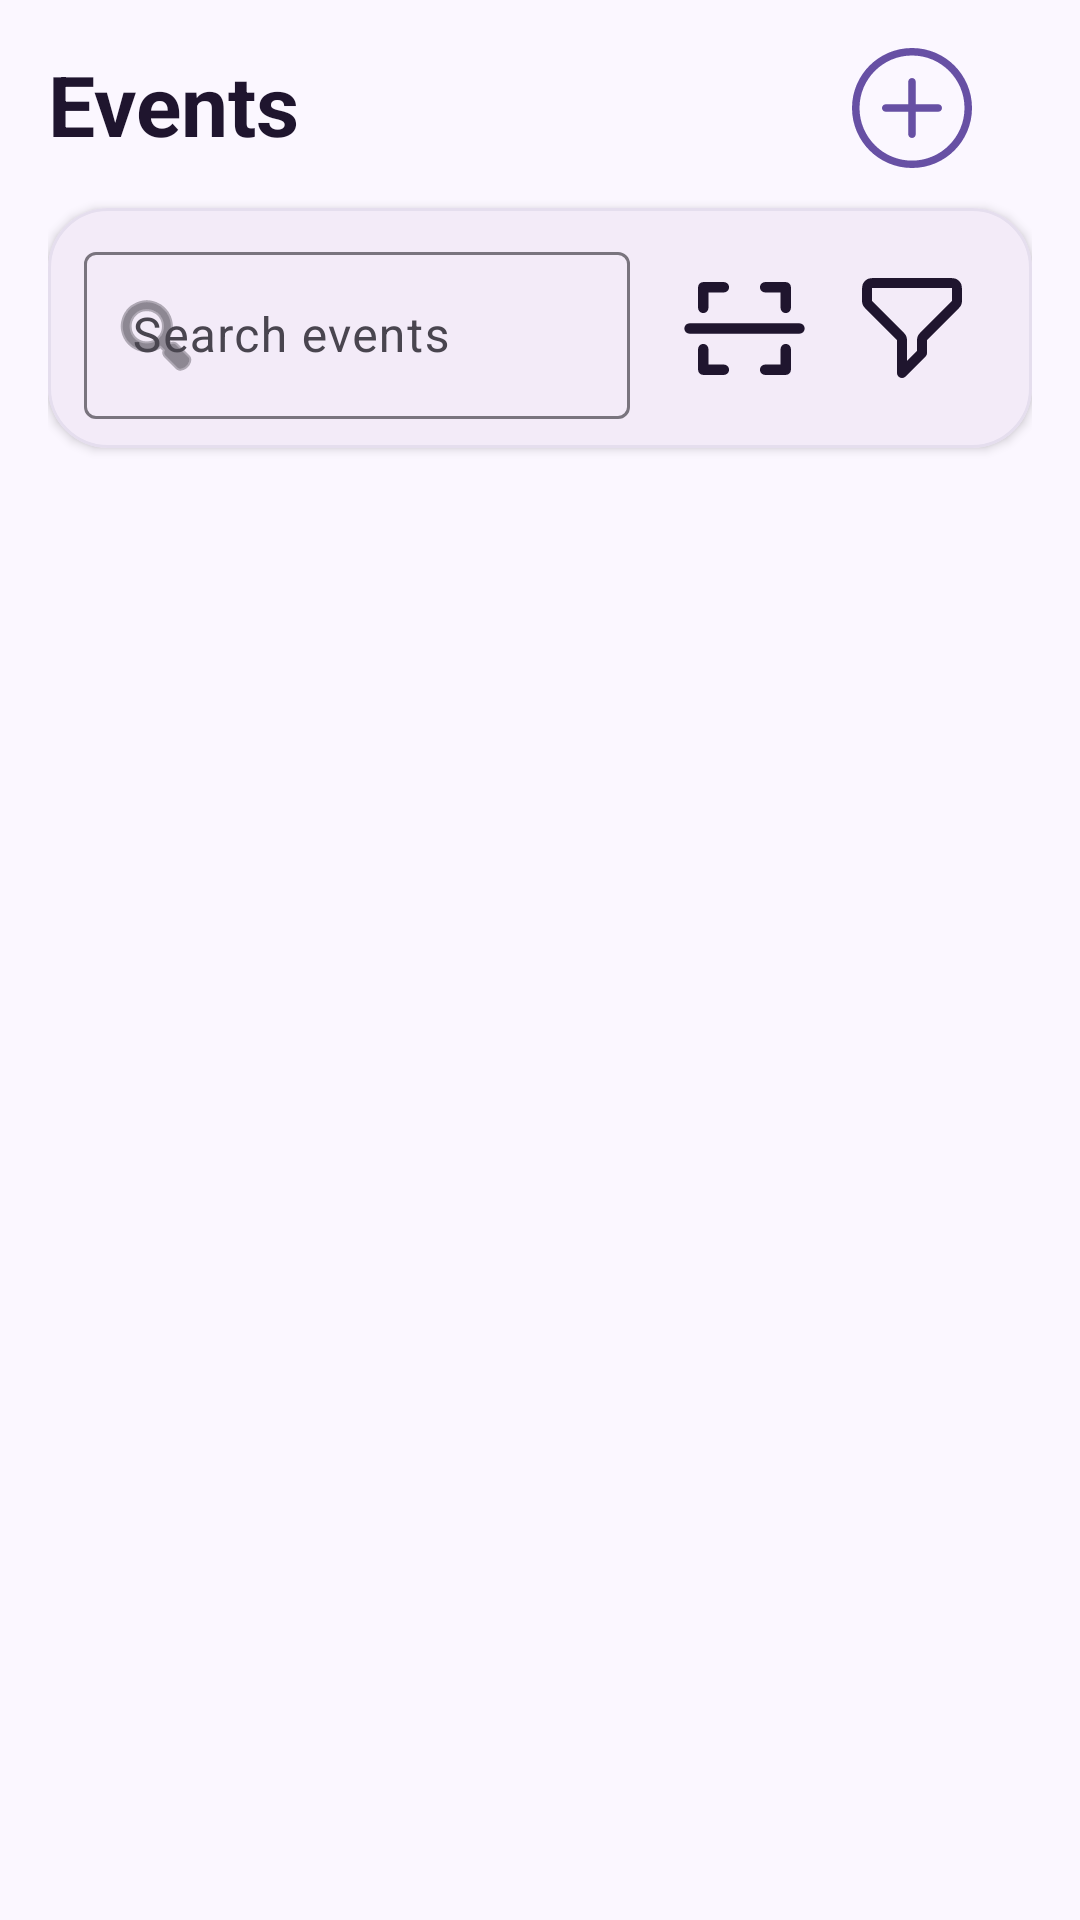

Locate icon controls on the screen. Image size 1080px x 1920px, boxes as (x1, y1, x2, y2).
filter: (862, 278, 962, 378)
plus: (852, 48, 972, 168)
qrcode scan: (684, 282, 805, 375)
